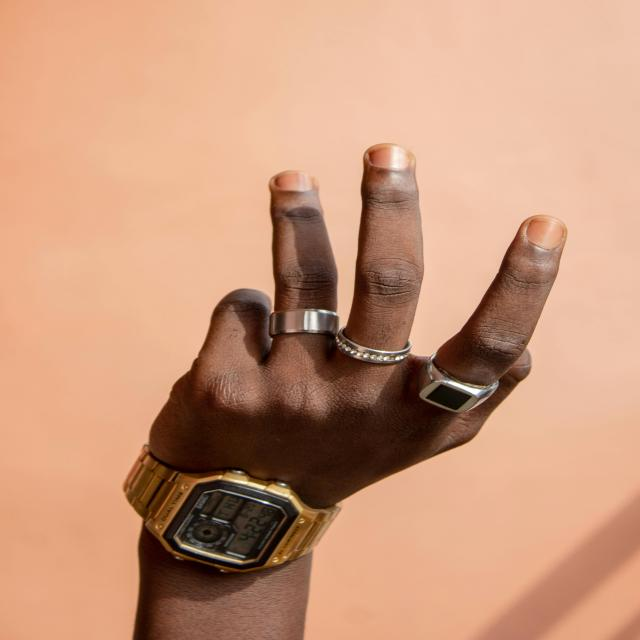relogio: (116, 442, 347, 576)
